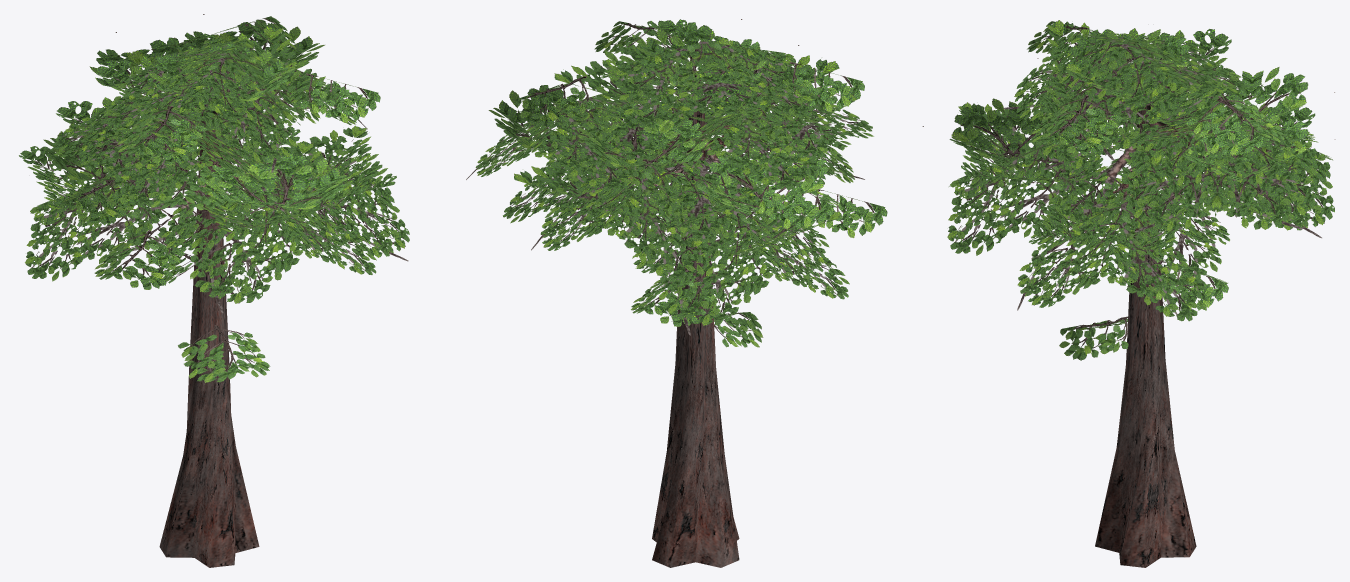
File: teak_0.glb
3 renders of one model, left to right at view 1: azimuth 30°, elevation 25°; view 2: azimuth 150°, elevation 25°; view 3: azimuth 270°, elevation 25°, orthographic.
Parts seen in each view (by area): view 1: teak_0; view 2: teak_0; view 3: teak_0.
Boxes of the visible parts, x1,y1,x2,y2 form: teak_0: (19,14,409,567); teak_0: (466,19,887,567); teak_0: (922,20,1335,567).
Size of the model in its own units: 12.83 by 16.87 by 12.56.
2 materials, 2 textured.
